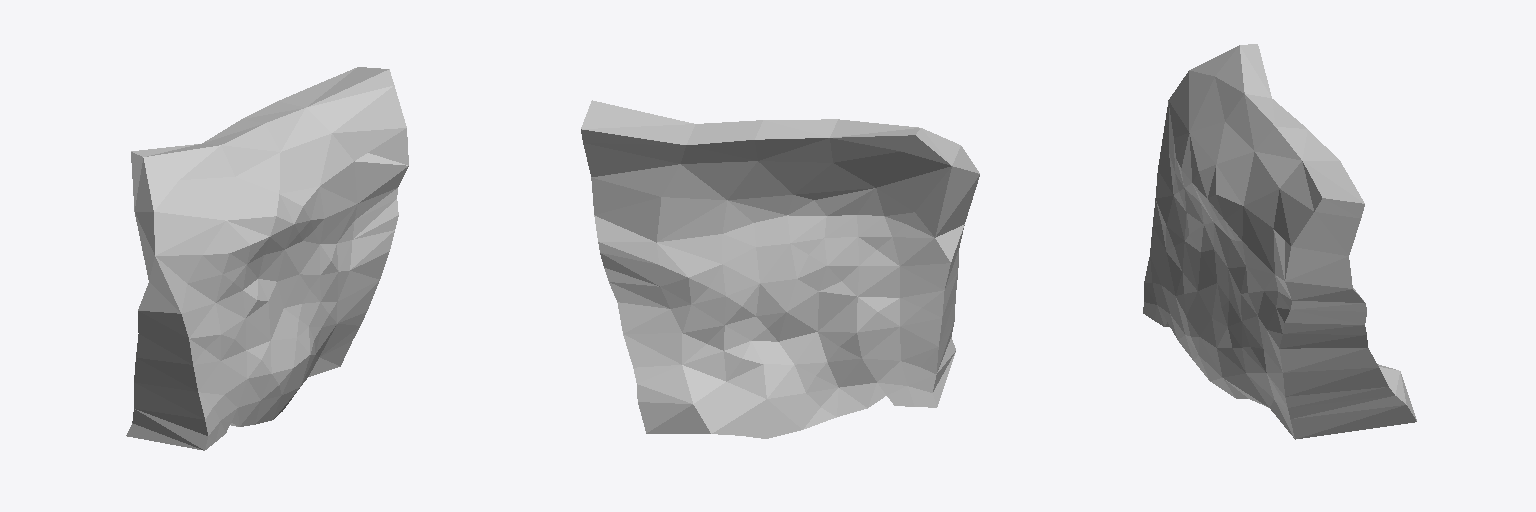
File: leftCheekFat.obj
3 renders of one model, left to right at view 1: azimuth 30°, elevation 25°; view 2: azimuth 150°, elevation 25°; view 3: azimuth 270°, elevation 25°, orthographic.
Visible parts, largest first — view 1: objMat.003; view 2: objMat.003; view 3: objMat.003.
Part boxes in pixels (left/top/right/bottom): objMat.003: left=126, top=67, right=408, bottom=450; objMat.003: left=581, top=100, right=979, bottom=438; objMat.003: left=1143, top=44, right=1416, bottom=439.
Size of the model in its own units: 1.37 by 1.22 by 1.04.